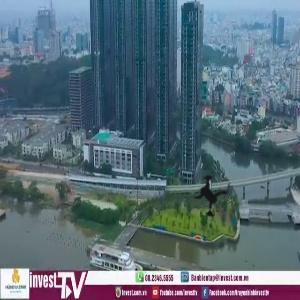drone: (172, 156, 255, 239)
